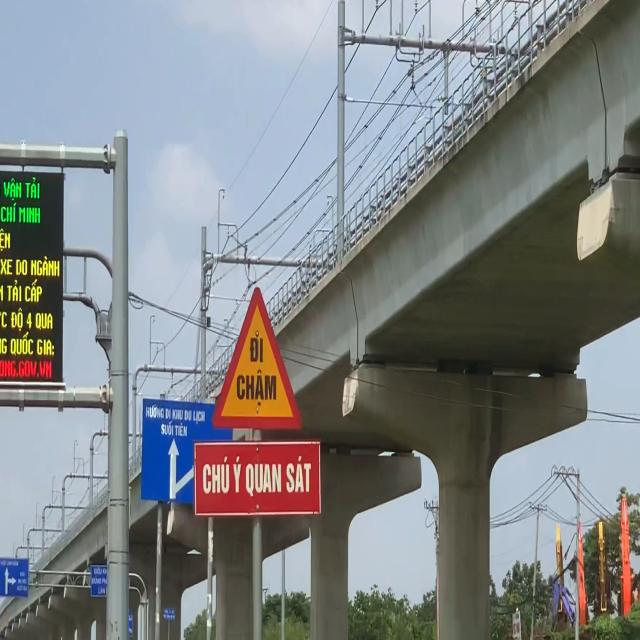Nguy hiem: (209, 281, 306, 438)
